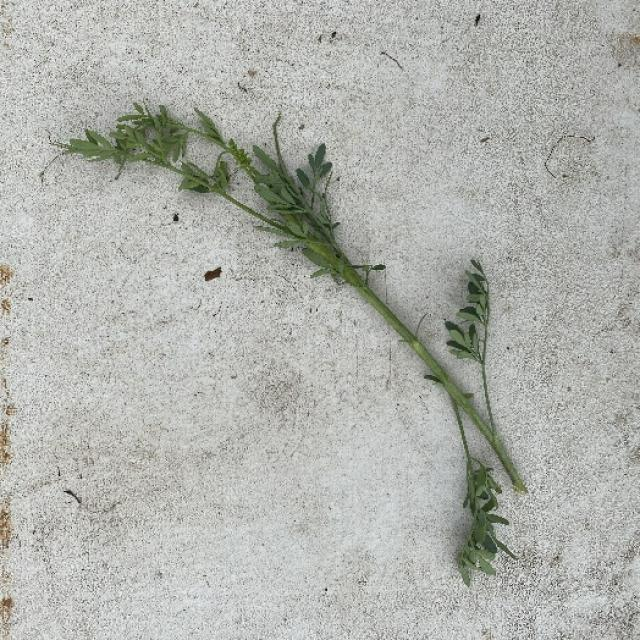organik: (72, 87, 553, 580)
